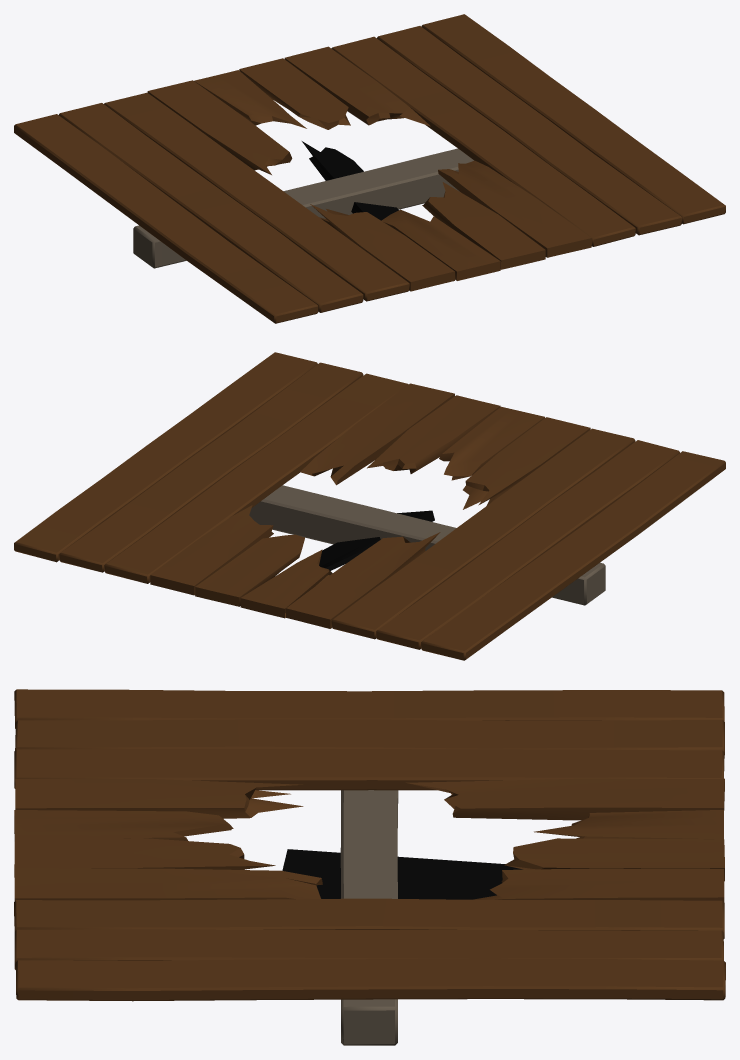
File: boden_kaputt.glb
The picture shows the model from 3 angles, top to bottom: view 1: azimuth 30°, elevation 25°; view 2: azimuth 150°, elevation 25°; view 3: azimuth 270°, elevation 25°; orthographic projection. The views are drawn at different scales.
Visible parts, largest first — view 1: boden_kaputt; view 2: boden_kaputt; view 3: boden_kaputt.
Part boxes in pixels (x1,y1,x2,y2): boden_kaputt: [14, 14, 725, 323]; boden_kaputt: [14, 352, 725, 660]; boden_kaputt: [14, 689, 725, 1045].
Size of the model in its own units: 2 by 0.2074 by 2.01.
